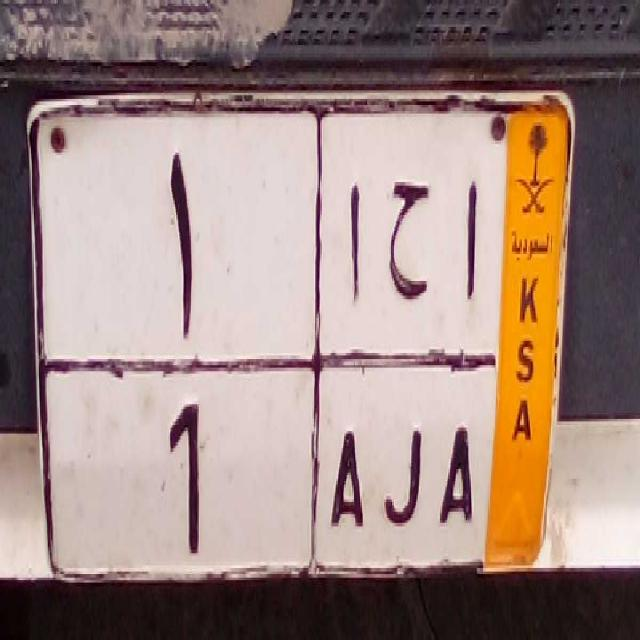license_plate: (58, 375, 484, 588)
